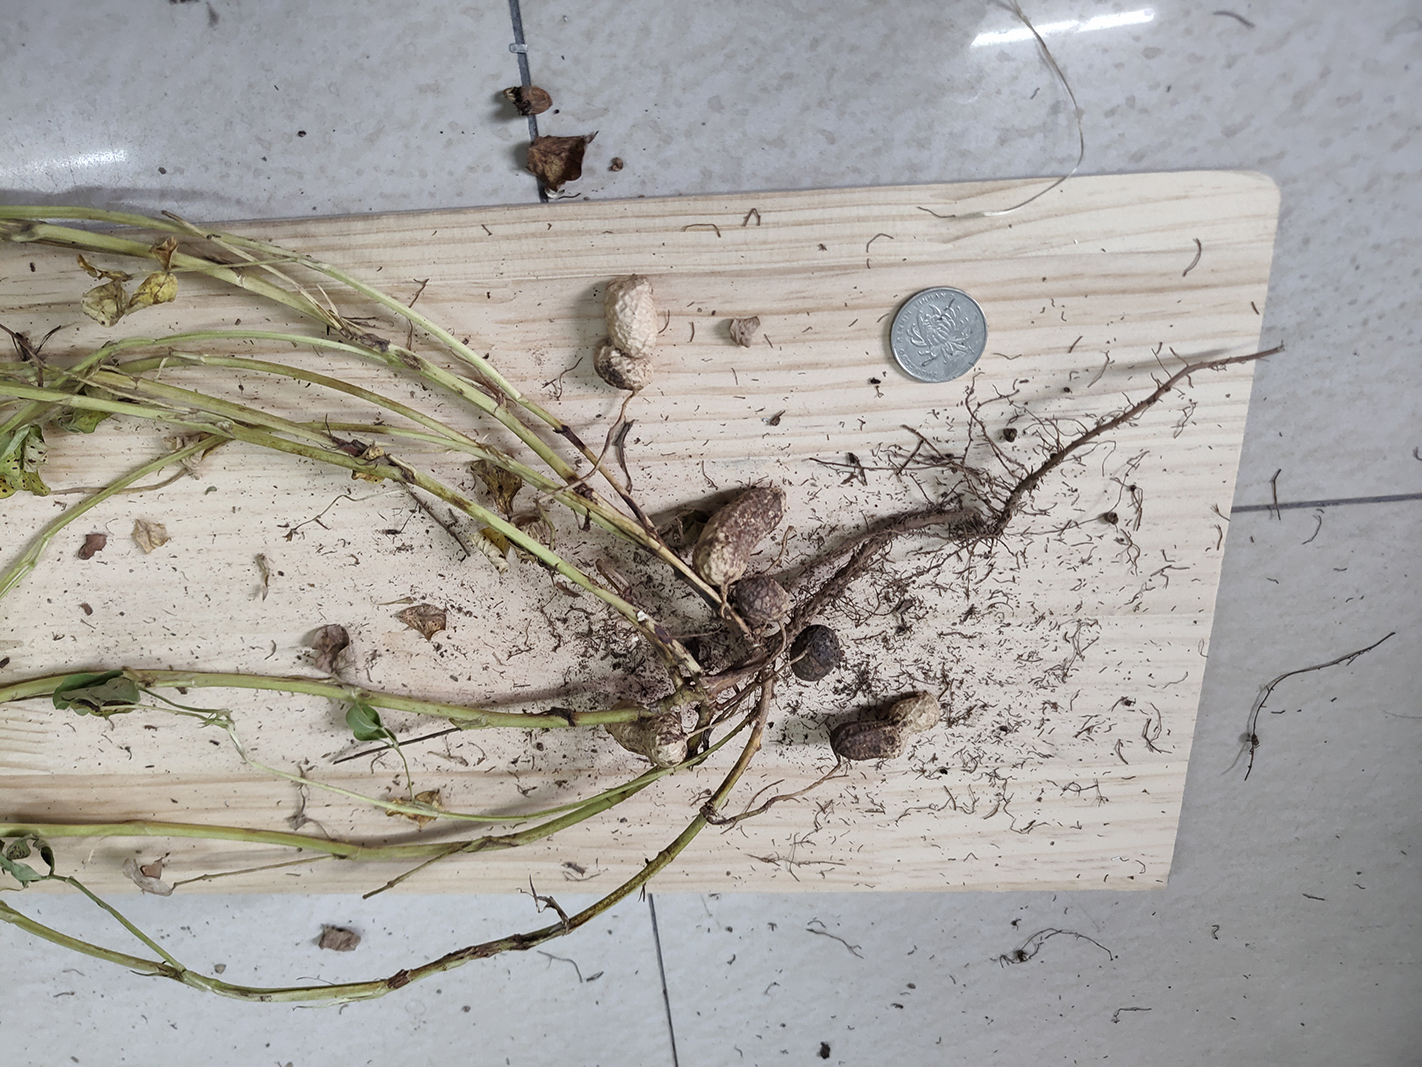h: (593, 275, 656, 393), (602, 720, 689, 766)
l: (695, 486, 788, 590), (828, 694, 935, 759), (790, 625, 842, 681), (734, 577, 787, 627)
